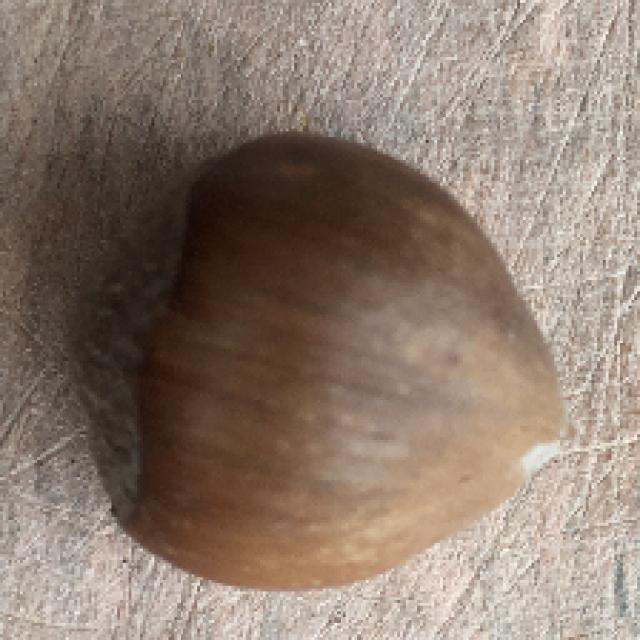damagedHazelnut: (64, 125, 570, 598)
